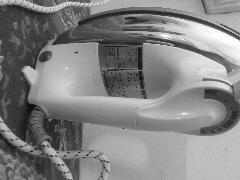electronic: (10, 0, 183, 164)
